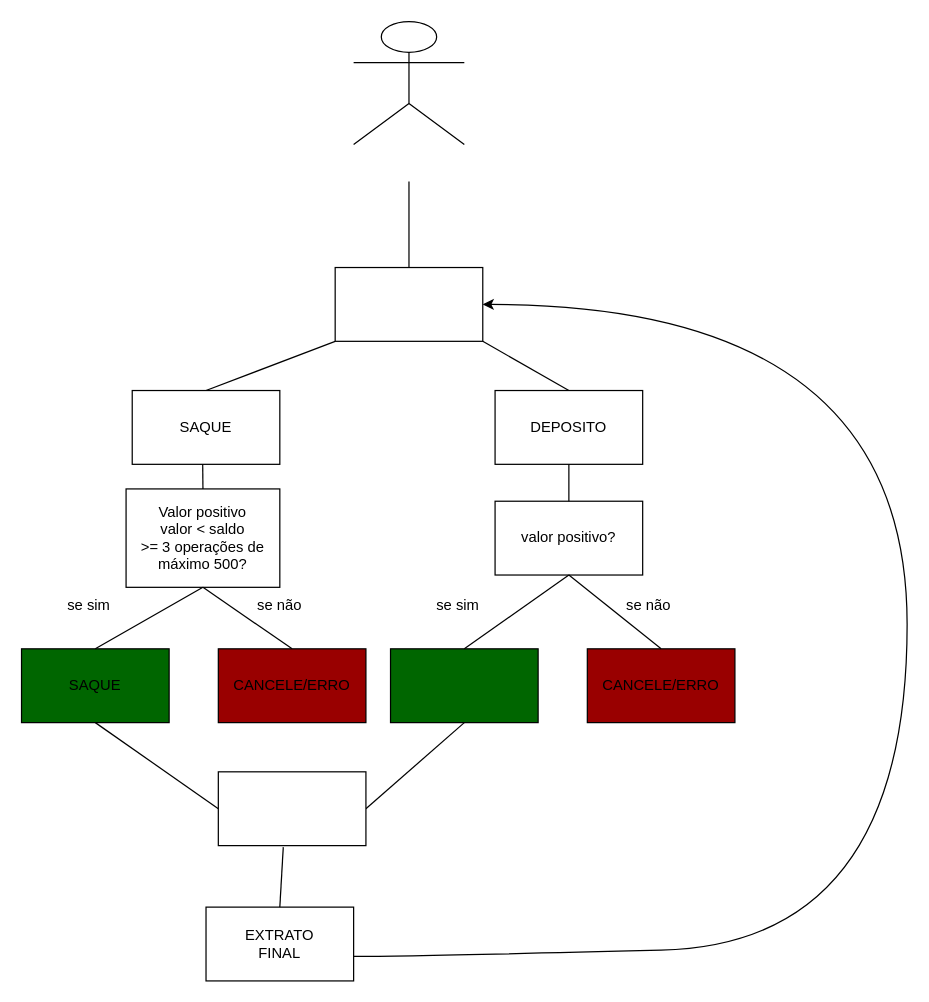
This 929x1002 diagram has some shape labels left out. The box of each missing label's shape, as (x1, y1, x2, y2) in pixels:
Actor: (352, 20, 464, 145)
DEPOSITE: (389, 648, 538, 723)
EXTRATO DA CONTA: (334, 266, 483, 341)
SALDO: (217, 771, 366, 846)
